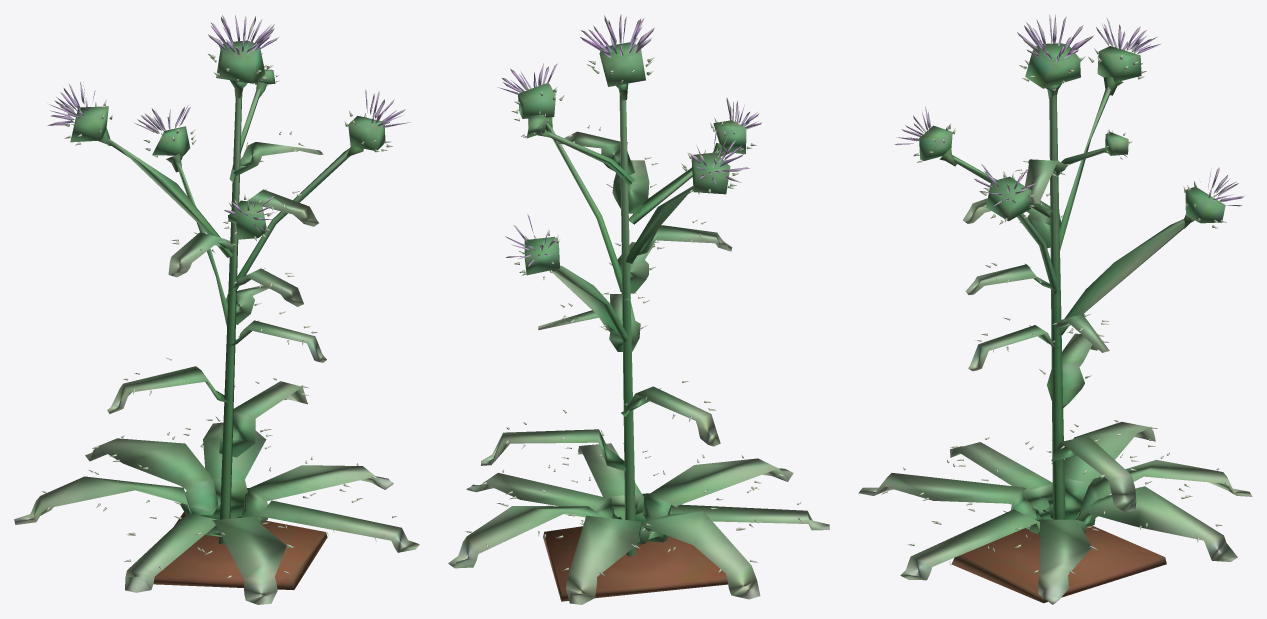
The model's file is thistle.glb.
3 renders of one model, left to right at view 1: azimuth 30°, elevation 25°; view 2: azimuth 150°, elevation 25°; view 3: azimuth 270°, elevation 25°, orthographic.
Parts seen in each view (by area): view 1: thistle_body; view 2: thistle_body; view 3: thistle_body.
Boxes of the visible parts, x1,y1,x2,y2 form: thistle_body: [14, 15, 419, 604]; thistle_body: [448, 14, 829, 604]; thistle_body: [858, 15, 1252, 604].
Size of the model in its own units: 0.5773 by 0.8809 by 0.5842.
1 material, 1 textured.
